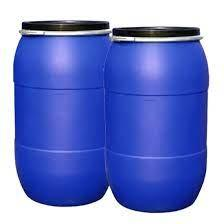HDPE: (103, 40, 210, 213), (13, 34, 111, 207), (20, 19, 112, 35), (111, 26, 203, 39)
